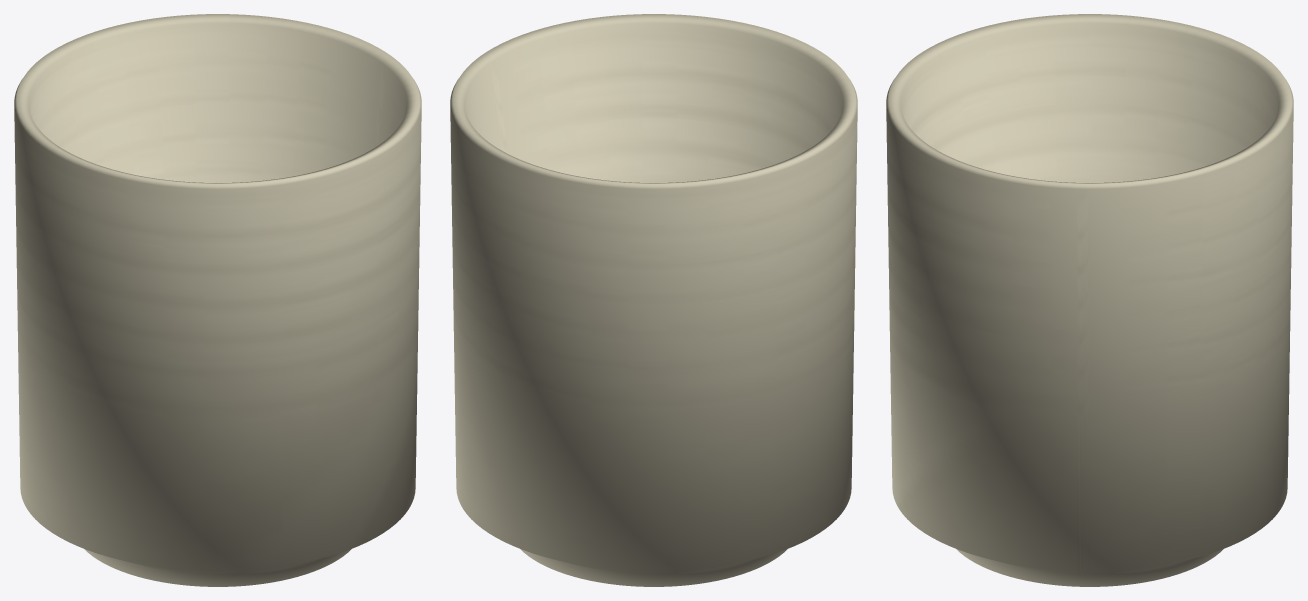
File: dishware__white_nested_cup.glb
The picture shows the model from 3 angles, left to right: view 1: azimuth 30°, elevation 25°; view 2: azimuth 150°, elevation 25°; view 3: azimuth 270°, elevation 25°; orthographic projection.
Visible parts, largest first — view 1: body; view 2: body; view 3: body.
Part boxes in pixels (x1=…): body: x1=14, y1=14, x2=421, y2=586; body: x1=450, y1=14, x2=857, y2=586; body: x1=886, y1=14, x2=1293, y2=586.
Size of the model in its own units: 0.09 by 0.104 by 0.09.
1 material, 1 textured.
